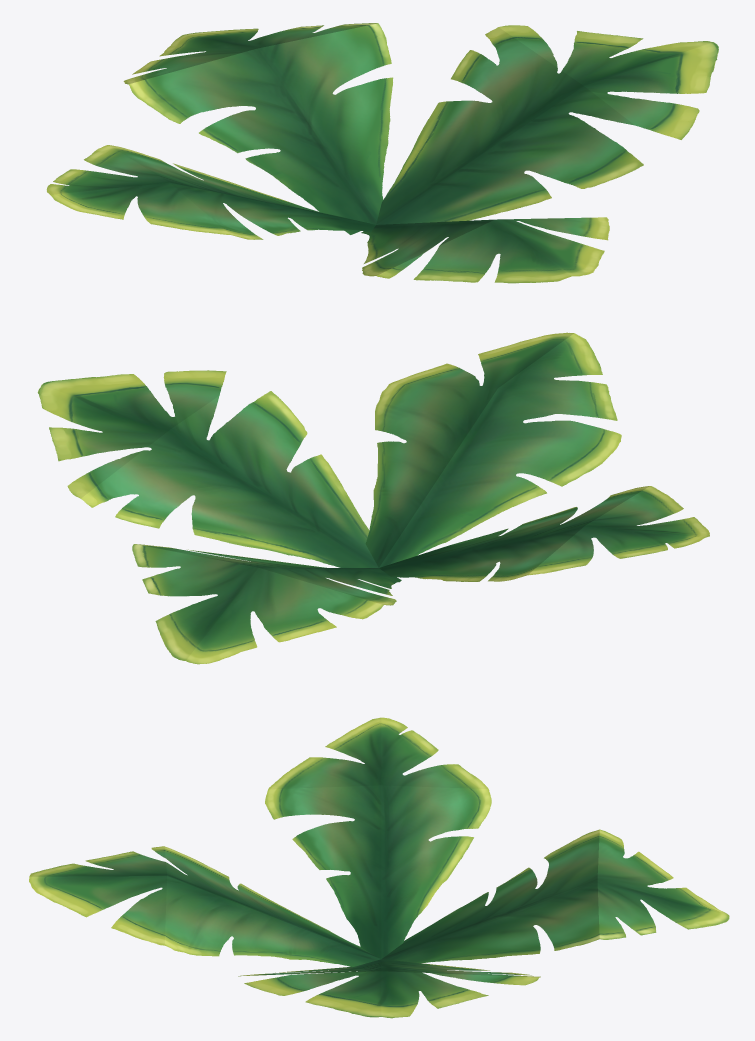
The model's file is plant2.glb.
3 views of the same model, one above another, from view 1: azimuth 30°, elevation 25°; view 2: azimuth 150°, elevation 25°; view 3: azimuth 270°, elevation 25° (orthographic). The views are drawn at different scales.
Parts seen in each view (by area): view 1: Small Plant 02; view 2: Small Plant 02; view 3: Small Plant 02.
Boxes of the visible parts, x1,y1,x2,y2 form: Small Plant 02: (46, 23, 718, 283); Small Plant 02: (37, 332, 709, 664); Small Plant 02: (29, 717, 729, 1018).
Size of the model in its own units: 74.45 by 12.25 by 75.56.
Materials: 1 (1 with a texture image).
